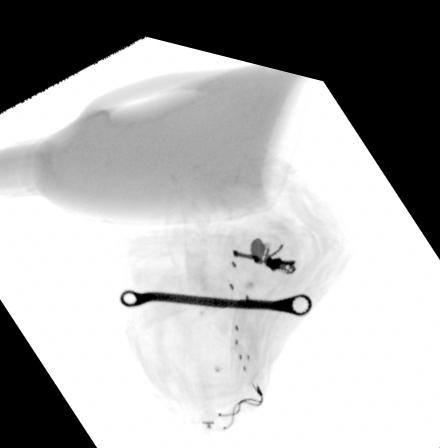Wrench: (116, 275, 314, 302)
